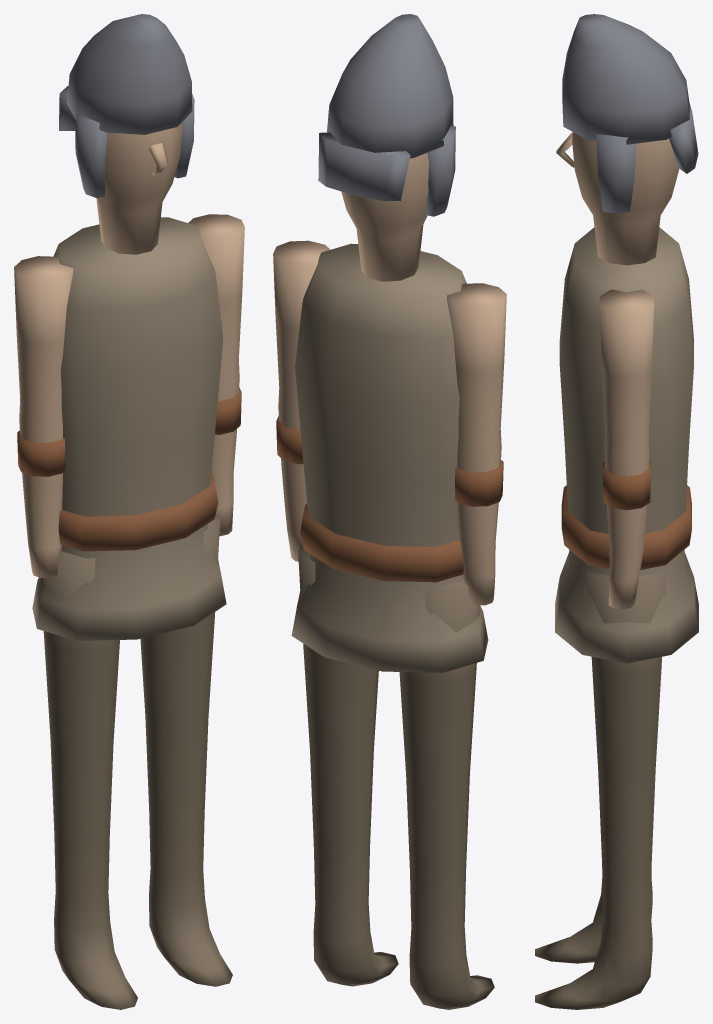
Rendered from warrior.glb.
The picture shows the model from 3 angles, left to right: view 1: azimuth 30°, elevation 25°; view 2: azimuth 150°, elevation 25°; view 3: azimuth 270°, elevation 25°; orthographic projection.
Visible parts, largest first — view 1: torso, legL, legR, helmet, armL_mesh, head, armR_mesh, belt; view 2: torso, legL, legR, helmet, armL_mesh, armR_mesh, head, belt; view 3: torso, legR, helmet, armR_mesh, head, belt, legL.
Part boxes in pixels (x1,y1,x2,y2): torso: (32, 217, 226, 640); legL: (40, 551, 137, 1009); legR: (140, 517, 232, 986); helmet: (59, 14, 194, 197); armL_mesh: (14, 256, 73, 577); head: (96, 122, 182, 254); armR_mesh: (188, 214, 244, 536); belt: (58, 474, 218, 551); torso: (291, 243, 488, 672); legL: (399, 581, 494, 1009); legR: (298, 545, 398, 986); helmet: (318, 14, 455, 216); armL_mesh: (447, 283, 506, 605); armR_mesh: (273, 240, 330, 561); head: (341, 152, 428, 281); belt: (300, 504, 463, 582); torso: (555, 227, 698, 663); legR: (535, 569, 666, 1009); helmet: (562, 14, 698, 213); armR_mesh: (599, 289, 654, 609); head: (556, 132, 678, 265); belt: (561, 485, 691, 569); legL: (535, 878, 652, 963).
Size of the model in its own units: 0.496 by 2.02 by 0.3137.
